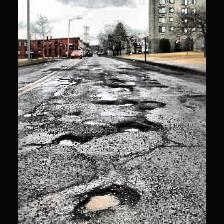pothole: (72, 182, 142, 214), (56, 134, 92, 146), (116, 120, 150, 132), (117, 100, 137, 106), (108, 84, 130, 89), (95, 100, 115, 104)
